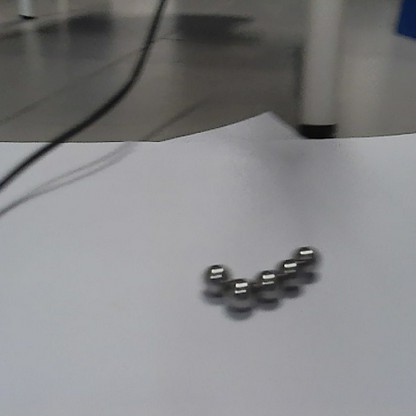ironball: (198, 257, 234, 295), (223, 275, 258, 311), (252, 265, 285, 303), (277, 255, 306, 294), (291, 241, 321, 277)
